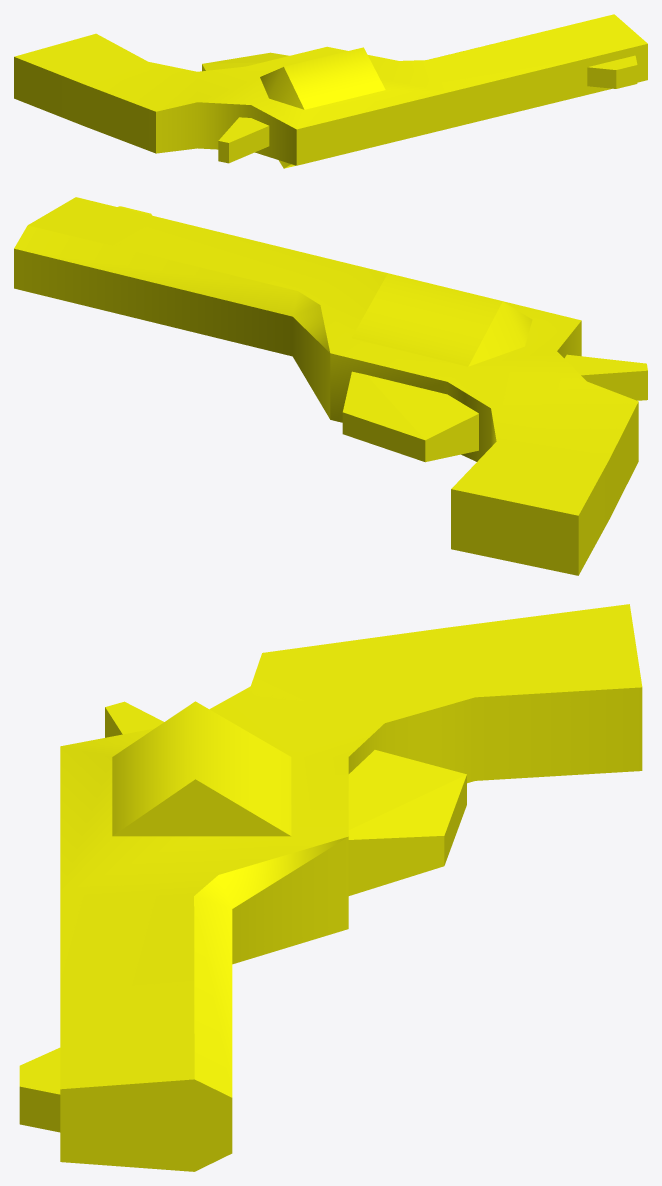
Rendered from weapon_webley.glb.
3 renders of one model, top to bottom at view 1: azimuth 30°, elevation 25°; view 2: azimuth 150°, elevation 25°; view 3: azimuth 270°, elevation 25°, orthographic. The views are drawn at different scales.
Parts seen in each view (by area): view 1: weapon_webley; view 2: weapon_webley; view 3: weapon_webley.
Boxes of the visible parts, left/top/right/bottom form: weapon_webley: left=14, top=14, right=647, bottom=168; weapon_webley: left=14, top=197, right=647, bottom=575; weapon_webley: left=19, top=604, right=642, bottom=1171.
Bounding box in the file's own units: 0.6191 × 0.1227 × 0.3396.
1 material, 1 textured.
